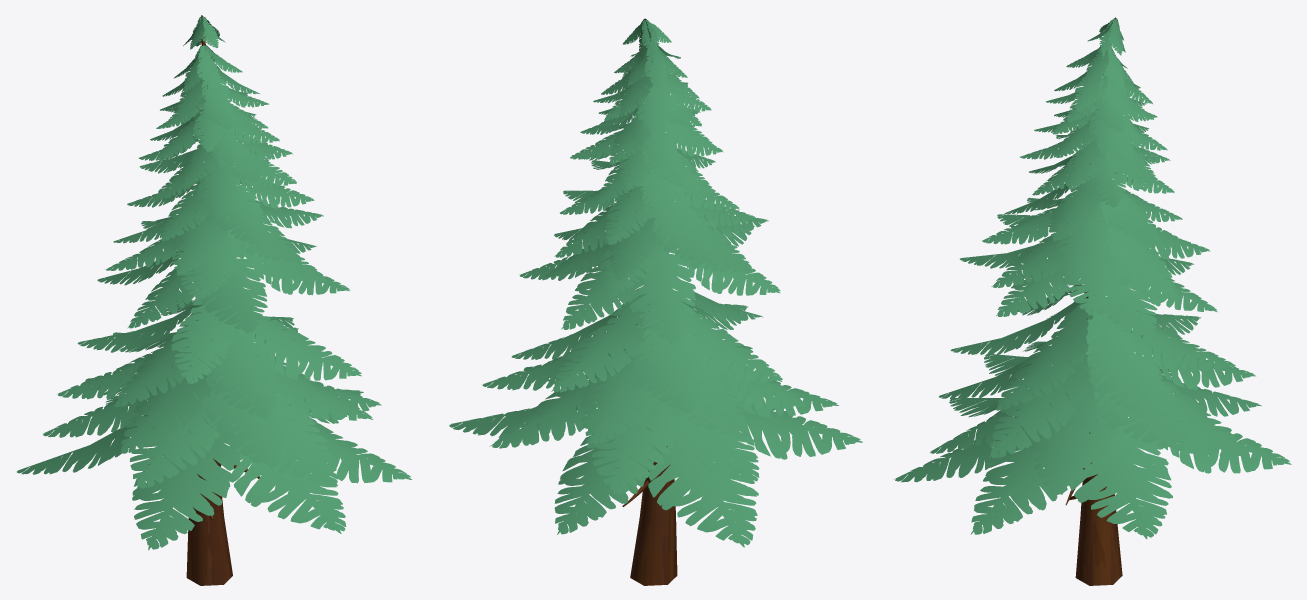
Rendered from STPine1.glb.
3 renders of one model, left to right at view 1: azimuth 30°, elevation 25°; view 2: azimuth 150°, elevation 25°; view 3: azimuth 270°, elevation 25°, orthographic.
Visible parts, largest first — view 1: PineTree1; view 2: PineTree1; view 3: PineTree1.
Part boxes in pixels (box(x1,y1,x2,y2)): PineTree1: box(17, 15, 411, 585); PineTree1: box(449, 18, 862, 585); PineTree1: box(893, 17, 1291, 585).
Size of the model in its own units: 8.37 by 12.85 by 8.33.
Materials: 2 (2 with a texture image).
